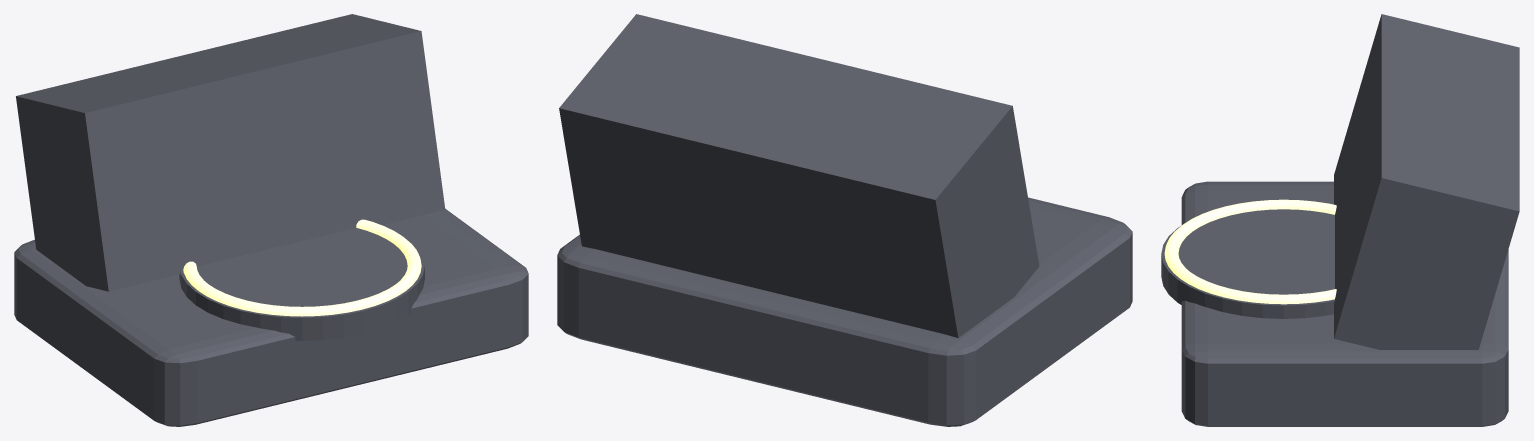
File: diagnostic_scanner.glb
3 views of the same model, side by side, from view 1: azimuth 30°, elevation 25°; view 2: azimuth 150°, elevation 25°; view 3: azimuth 270°, elevation 25° (orthographic). The views are drawn at different scales.
Parts seen in each view (by area): view 1: ScannerDisplayTower, ScannerBase, LaserAperture, GlowRing; view 2: ScannerDisplayTower, ScannerBase; view 3: ScannerDisplayTower, ScannerBase, LaserAperture, GlowRing.
Boxes of the visible parts, left/top/right/bottom form: ScannerDisplayTower: left=16, top=14, right=445, bottom=291; ScannerBase: left=14, top=209, right=528, bottom=426; LaserAperture: left=179, top=228, right=424, bottom=340; GlowRing: left=183, top=219, right=421, bottom=316; ScannerDisplayTower: left=559, top=14, right=1039, bottom=338; ScannerBase: left=557, top=197, right=1132, bottom=426; ScannerDisplayTower: left=1334, top=14, right=1519, bottom=349; ScannerBase: left=1181, top=181, right=1508, bottom=426; LaserAperture: left=1161, top=209, right=1334, bottom=318; GlowRing: left=1164, top=199, right=1336, bottom=304.
Bounding box in the file's own units: 4.2 × 2.65 × 3.51.
